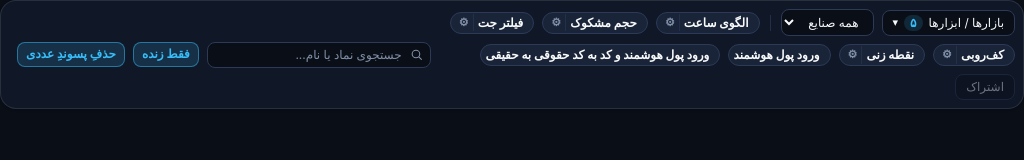
Test case: سوییچِ «حذفِ پسوندِ عددی» در نوارِ فیلتر › یک کلیک: ردیف‌ها دیده می‌شوند، تنظیم در localStorage می‌نشیند و «پاک کردن» شمار می‌کند
The width and height of the screenshot is (1024, 160).
Click the button with test id "numeric-suffix-toggle" at (71, 54), box [17,42,125,67]
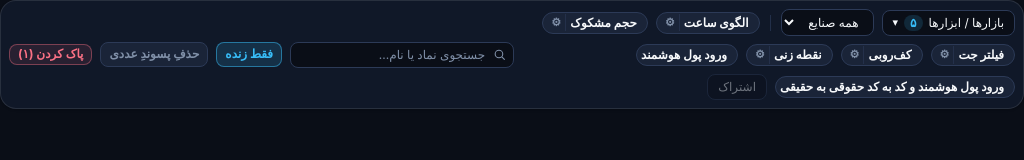
Check: the button with test id "filters-reset" is shown, box [9,44,92,65]
Click the button with test id "numeric-suffix-toggle" at (154, 54), box [100,42,208,67]
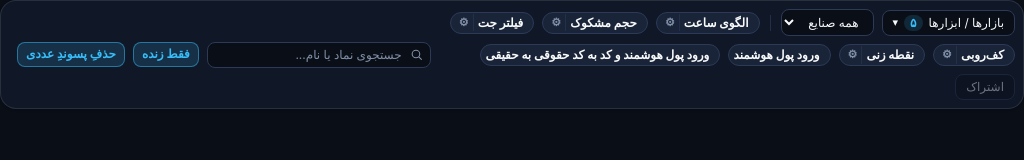
Check: the button with test id "filters-reset" is gone
